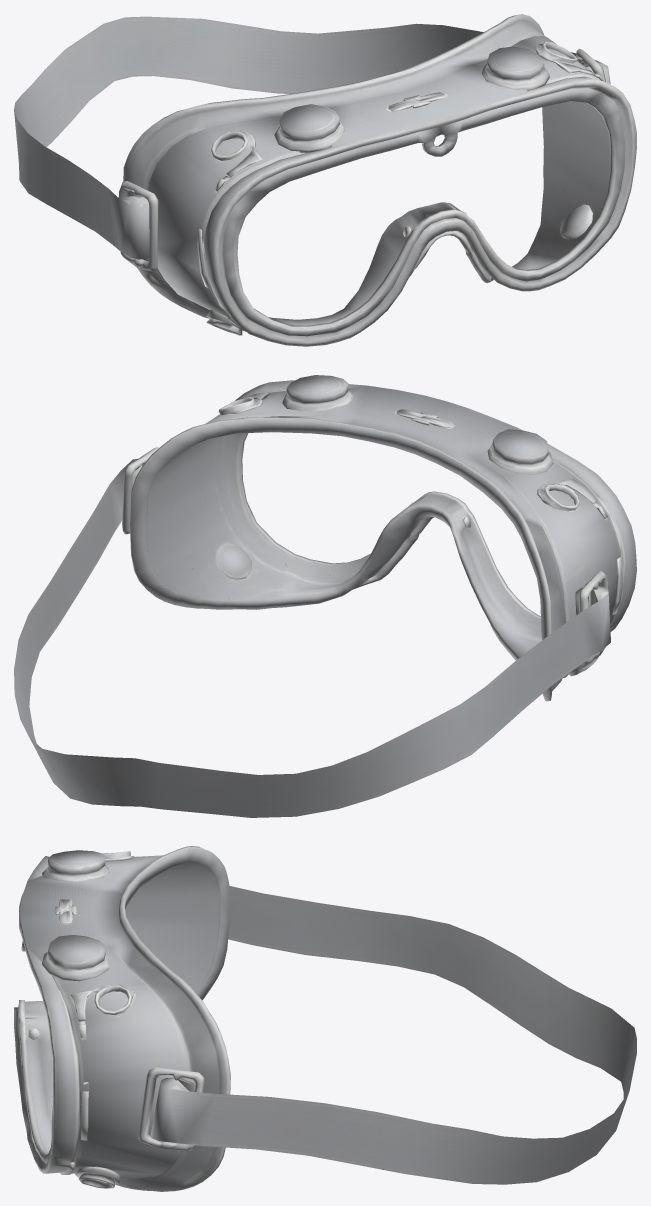
File: selected.glb
3 renders of one model, top to bottom at view 1: azimuth 30°, elevation 25°; view 2: azimuth 150°, elevation 25°; view 3: azimuth 270°, elevation 25°, orthographic. The views are drawn at different scales.
Parts seen in each view (by area): view 1: tripo_node_0c764a00-eed4-4f07-9951-94b04e4a9691; view 2: tripo_node_0c764a00-eed4-4f07-9951-94b04e4a9691; view 3: tripo_node_0c764a00-eed4-4f07-9951-94b04e4a9691.
Boxes of the visible parts, x1,y1,x2,y2 form: tripo_node_0c764a00-eed4-4f07-9951-94b04e4a9691: [14, 14, 636, 346]; tripo_node_0c764a00-eed4-4f07-9951-94b04e4a9691: [14, 375, 636, 817]; tripo_node_0c764a00-eed4-4f07-9951-94b04e4a9691: [14, 846, 636, 1191].
Bounding box in the file's own units: 0.873 × 0.3887 × 0.998.
1 material, 1 textured.
